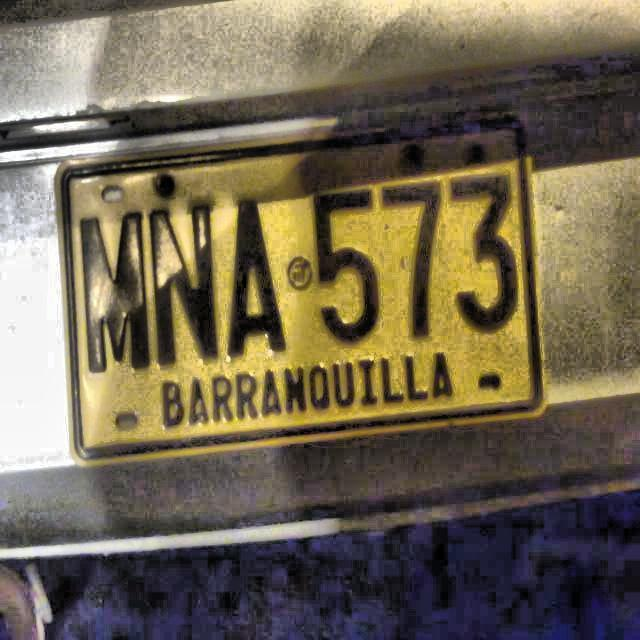plate: (64, 124, 540, 457)
